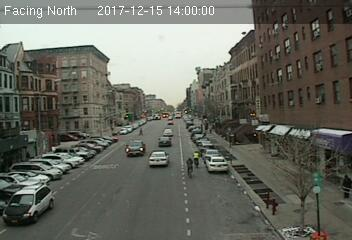bicycle: (185, 157, 194, 180), (192, 148, 201, 169)
car: (3, 185, 53, 223), (205, 155, 227, 171), (126, 140, 146, 156), (149, 151, 167, 165), (156, 137, 171, 145)
